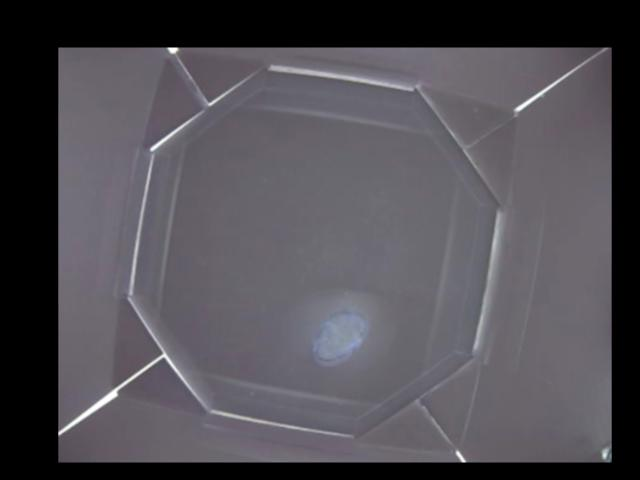Pebble: (313, 309, 367, 366)
